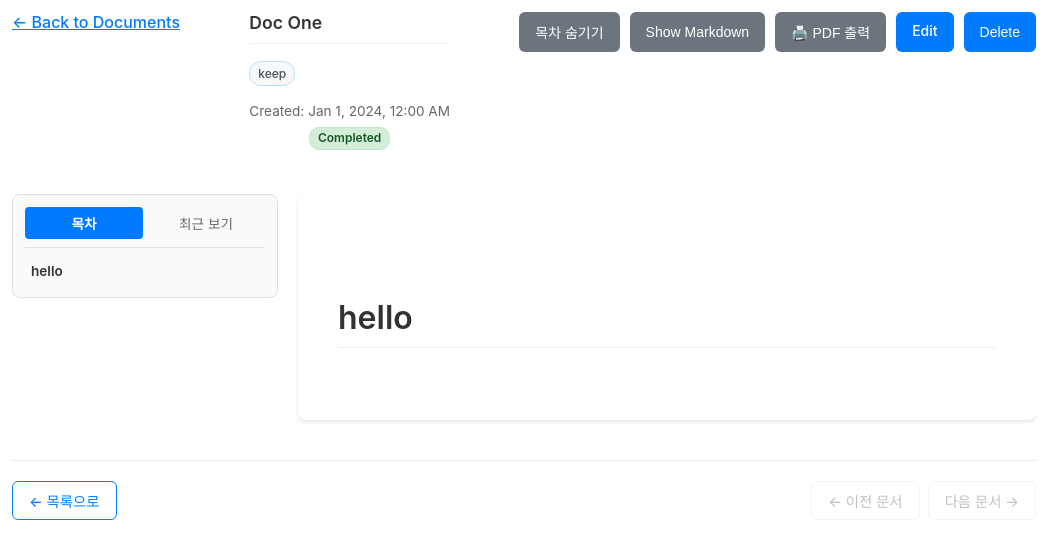
it: DocumentView › table of contents sidebar › hides the TOC panel when the toggle button is clicked
Expected: the heading "Doc One" is shown, top-left (249, 12), bottom-right (322, 33)
Expected: the navigation bar with class "document-toc" is shown, top-left (12, 194), bottom-right (278, 298)
Click the button "목차 숨기기": x=569, y=32 top-left (519, 12), bottom-right (620, 52)
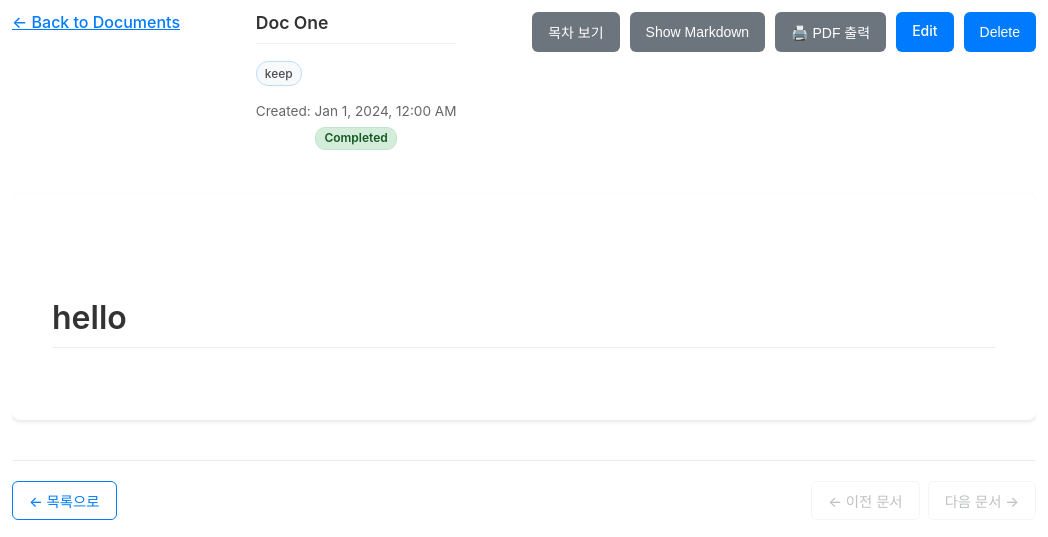
Result: the navigation bar with class "document-toc" is gone
